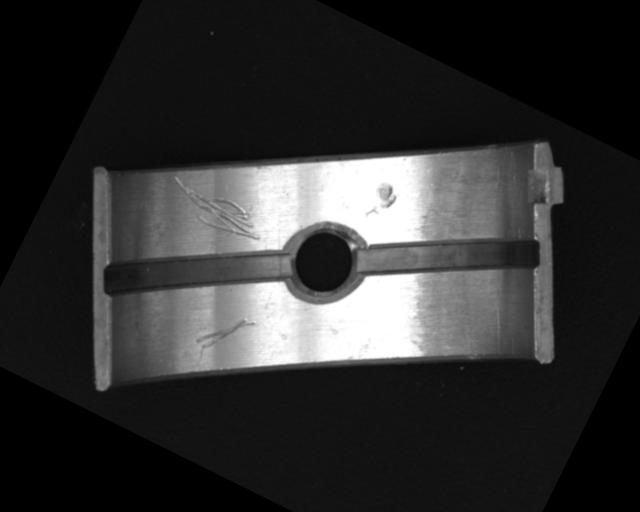bruise: (361, 178, 402, 227)
gap: (98, 186, 294, 360), (355, 175, 545, 341)
hole: (271, 210, 377, 313)
nick: (160, 171, 270, 250), (193, 300, 256, 364)
